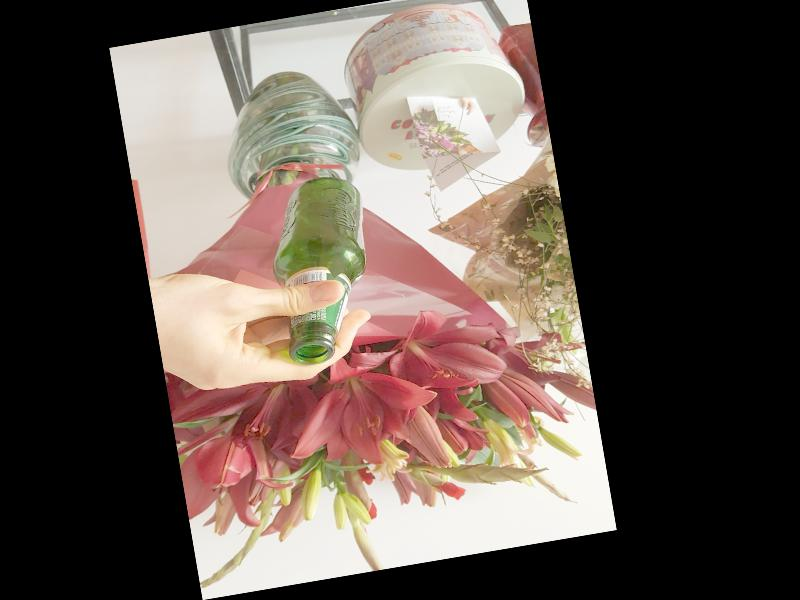Beer: (259, 171, 388, 367)
